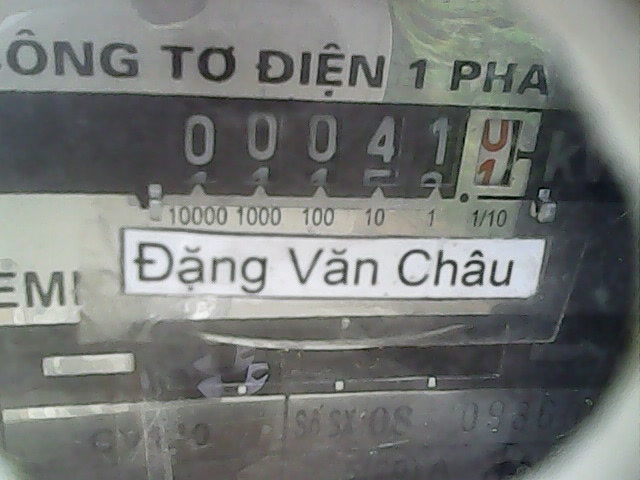phy_plate: (164, 91, 549, 203)
